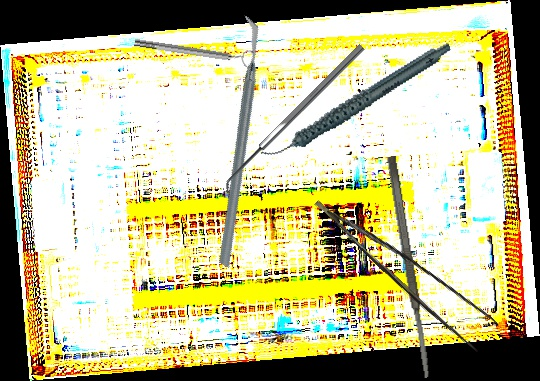Chopper: (128, 14, 345, 269)
Fixation Ring: (133, 31, 254, 71)
Handpiece: (246, 42, 466, 161)
Spatula Surgical: (218, 43, 371, 196), (385, 155, 433, 379)
Tissue Forceps: (314, 174, 502, 358)
